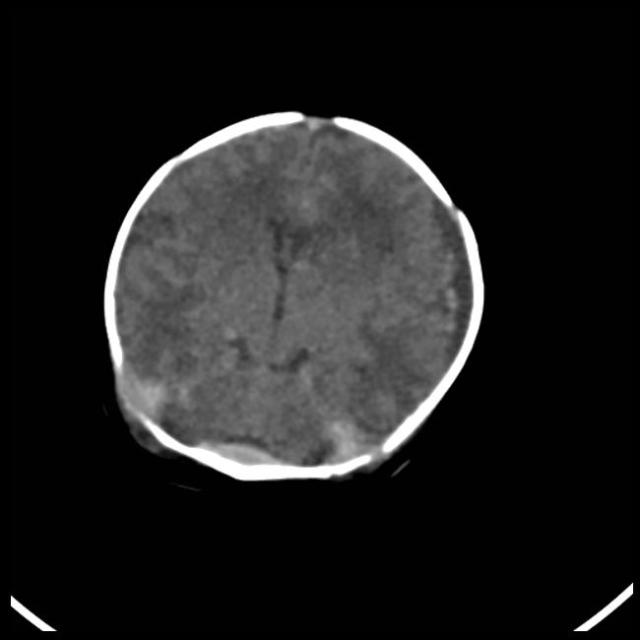lesion: (98, 106, 490, 488)
